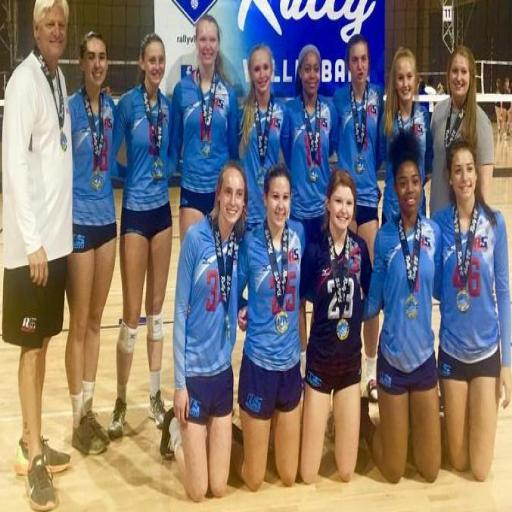person: (3, 0, 72, 509), (161, 162, 247, 501), (361, 132, 441, 483), (108, 34, 172, 438), (435, 140, 511, 480), (233, 164, 304, 490), (301, 170, 371, 483), (66, 32, 116, 454), (172, 15, 238, 240), (333, 34, 383, 260), (430, 46, 494, 216), (284, 45, 338, 243), (380, 47, 431, 224), (241, 45, 289, 230), (495, 100, 506, 138), (503, 102, 511, 138)
